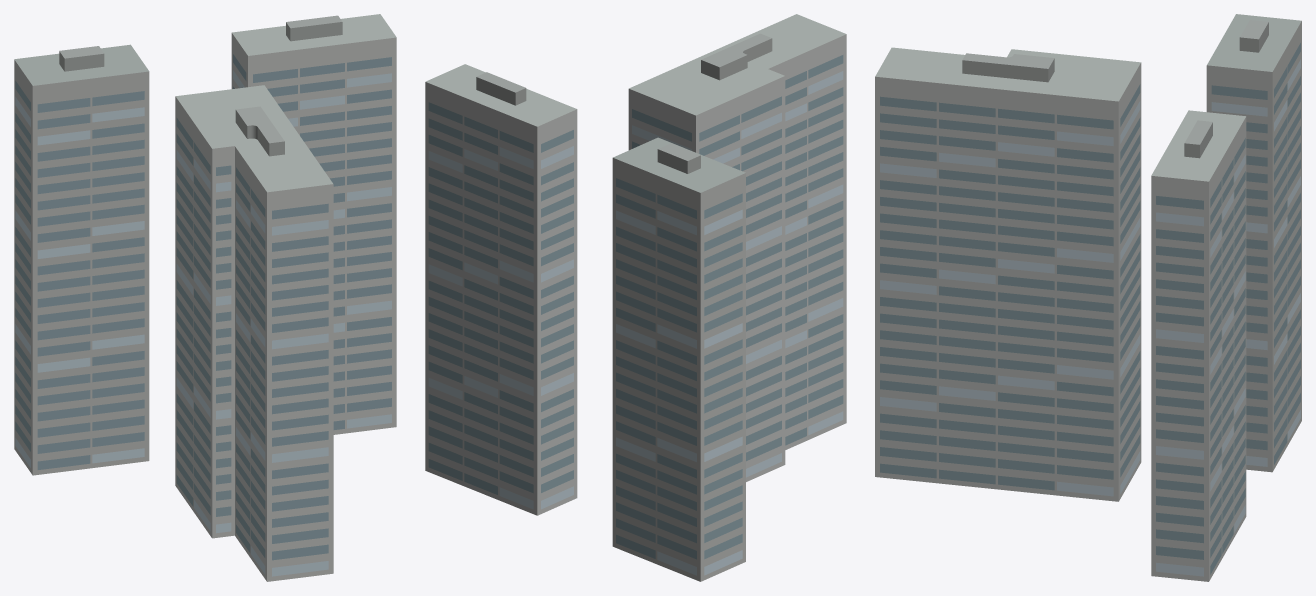
Rendered from apt-a15187101.glb.
3 renders of one model, left to right at view 1: azimuth 30°, elevation 25°; view 2: azimuth 150°, elevation 25°; view 3: azimuth 270°, elevation 25°, orthographic. The views are drawn at different scales.
Parts seen in each view (by area): view 1: apt-a15187101; view 2: apt-a15187101; view 3: apt-a15187101.
Part boxes in pixels (x1,y1,x2,y2): apt-a15187101: (14, 14, 396, 581); apt-a15187101: (425, 14, 846, 581); apt-a15187101: (875, 14, 1301, 581).
Size of the model in its own units: 64.32 by 74 by 69.2.
